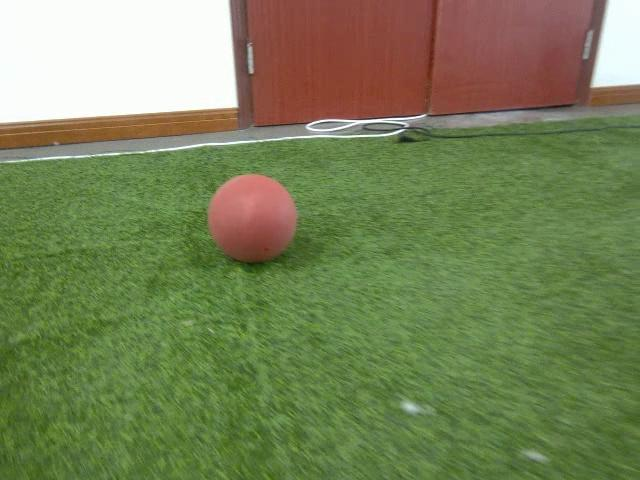red_ball: (205, 175, 299, 266)
